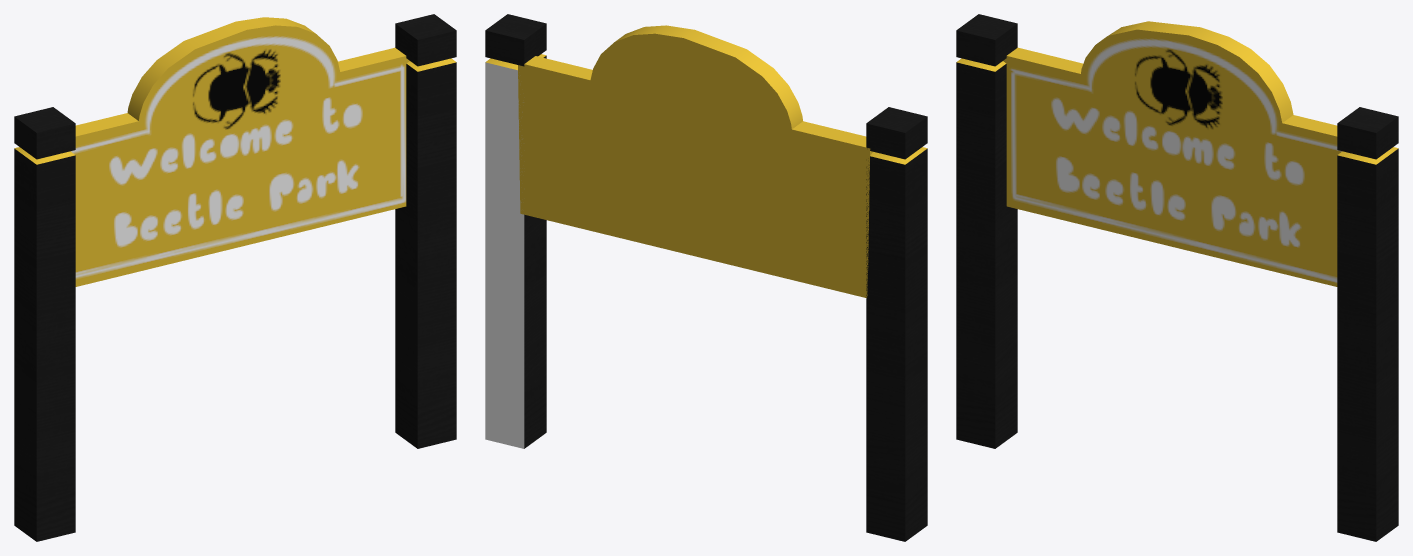
File: parksign.fbx
The picture shows the model from 3 angles, left to right: view 1: azimuth 30°, elevation 25°; view 2: azimuth 150°, elevation 25°; view 3: azimuth 330°, elevation 25°; orthographic projection.
Parts seen in each view (by area): view 1: ParkSign; view 2: ParkSign; view 3: ParkSign.
Boxes of the visible parts, x1=… form: ParkSign: x1=14, y1=14, x2=456, y2=541; ParkSign: x1=485, y1=14, x2=927, y2=541; ParkSign: x1=956, y1=14, x2=1398, y2=541.
Size of the model in its own units: 107 by 110 by 10.
1 material, 1 textured.
